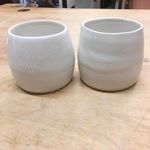cups: (5, 18, 77, 96), (76, 15, 147, 94)
